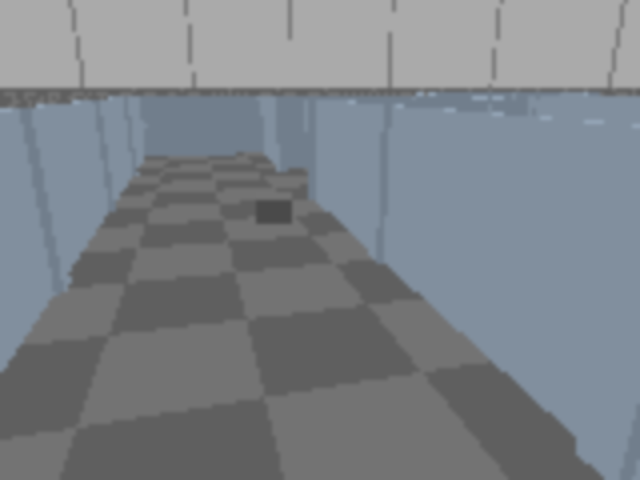obstacle: (255, 191, 294, 224)
